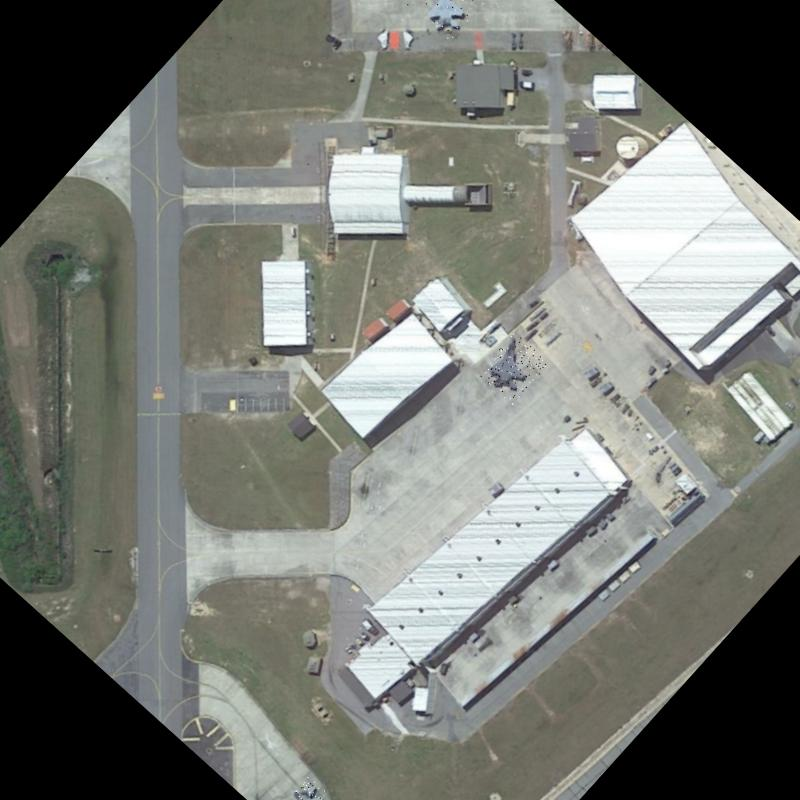A13: (476, 332, 550, 406), (405, 0, 487, 47), (273, 775, 348, 800)
